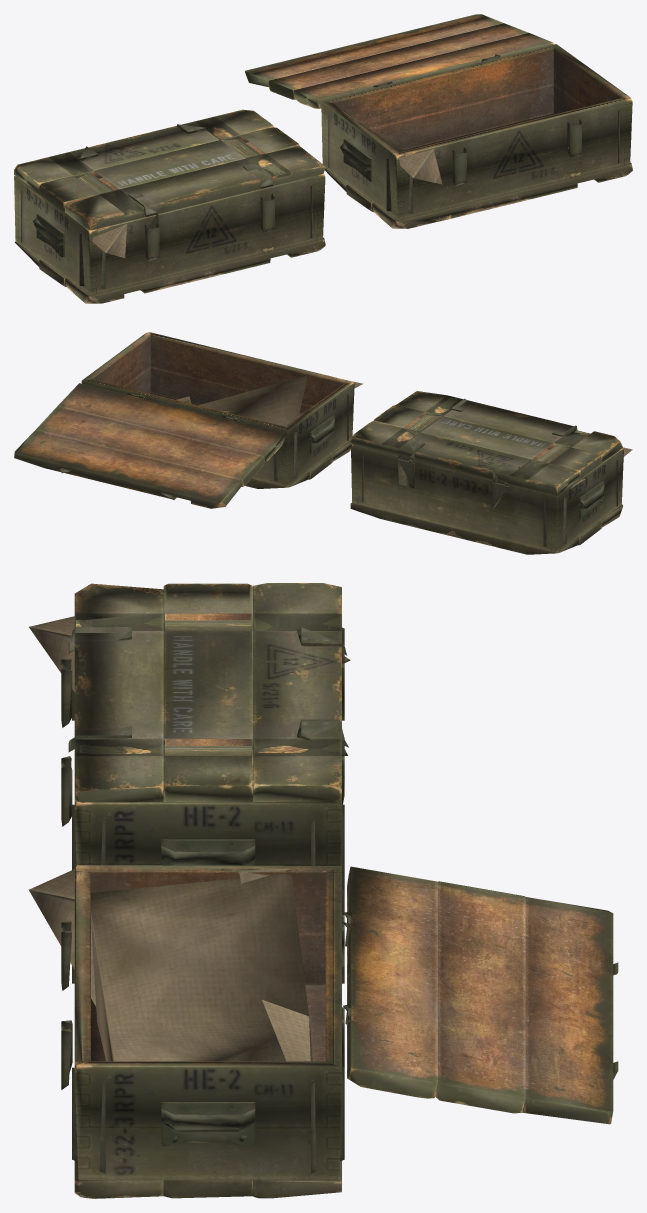
The model's file is glb_mcrate.aabab2b1.glb.
The picture shows the model from 3 angles, top to bottom: view 1: azimuth 30°, elevation 25°; view 2: azimuth 150°, elevation 25°; view 3: azimuth 270°, elevation 25°; orthographic projection. The views are drawn at different scales.
Parts seen in each view (by area): view 1: old_military_crate_lid_a; view 2: old_military_crate_lid_a; view 3: old_military_crate_lid_a.
Part boxes in pixels (x1=…): old_military_crate_lid_a: x1=14, y1=14, x2=632, y2=303; old_military_crate_lid_a: x1=14, y1=332, x2=632, y2=554; old_military_crate_lid_a: x1=29, y1=583, x2=618, y2=1198.
Bounding box in the file's own units: 1.8 × 0.2734 × 0.9479.
1 material, 1 textured.
